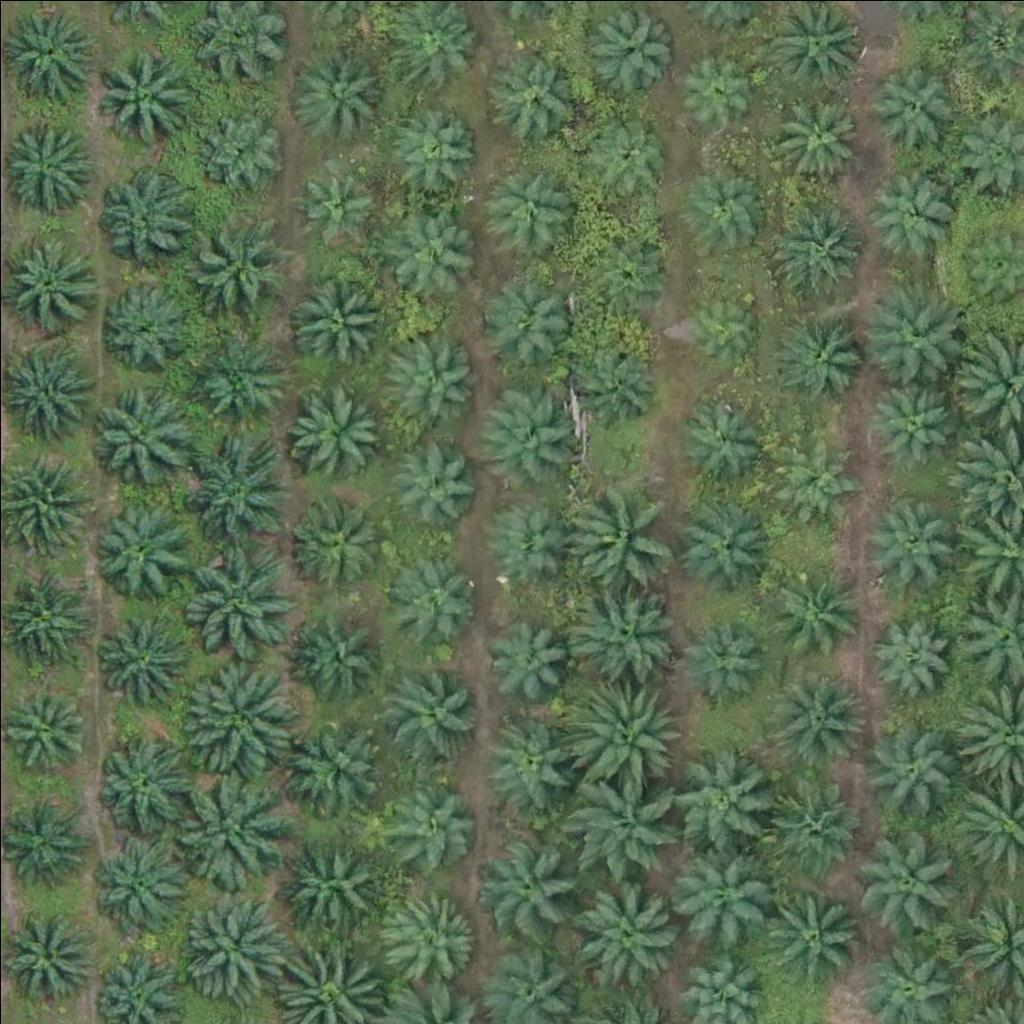Kelapa_Sawit: (847, 823, 960, 937), (184, 660, 297, 773), (171, 776, 284, 889), (180, 890, 293, 1003), (566, 767, 679, 880), (184, 433, 296, 546), (178, 544, 290, 657), (284, 708, 396, 821), (570, 674, 682, 787), (860, 283, 960, 384), (567, 481, 667, 582), (560, 333, 660, 434), (487, 37, 587, 138), (382, 200, 482, 301), (287, 266, 387, 367), (285, 385, 385, 486), (289, 494, 389, 595), (190, 333, 290, 434), (187, 222, 287, 323), (93, 499, 193, 600), (87, 45, 187, 146), (93, 734, 193, 835), (95, 608, 195, 709), (275, 828, 375, 929), (383, 660, 483, 761), (377, 771, 477, 872), (477, 832, 577, 933), (480, 710, 580, 811), (578, 884, 678, 985), (671, 840, 771, 941), (760, 883, 860, 984), (677, 491, 777, 591), (670, 387, 770, 487), (477, 380, 577, 480), (88, 381, 188, 481), (97, 164, 197, 264), (87, 833, 187, 933), (576, 579, 676, 679), (666, 742, 766, 842), (767, 667, 867, 767), (760, 775, 860, 875), (773, 306, 861, 395), (863, 372, 951, 460), (871, 161, 959, 249), (867, 60, 955, 148), (770, 564, 858, 652), (770, 437, 858, 525), (773, 201, 861, 289), (577, 222, 665, 310), (487, 495, 575, 583), (486, 274, 574, 362), (490, 162, 578, 250), (389, 437, 477, 525), (389, 330, 477, 418), (392, 97, 480, 185), (290, 53, 378, 141), (195, 103, 283, 191), (2, 679, 90, 767), (294, 612, 382, 700), (387, 889, 475, 977), (683, 611, 771, 699), (297, 159, 384, 248), (867, 493, 954, 581), (771, 87, 858, 175), (669, 45, 756, 133), (681, 168, 768, 256), (582, 105, 669, 193), (101, 282, 188, 370), (397, 548, 484, 636), (486, 616, 573, 704), (866, 721, 953, 809), (865, 613, 952, 701), (683, 286, 758, 362)
